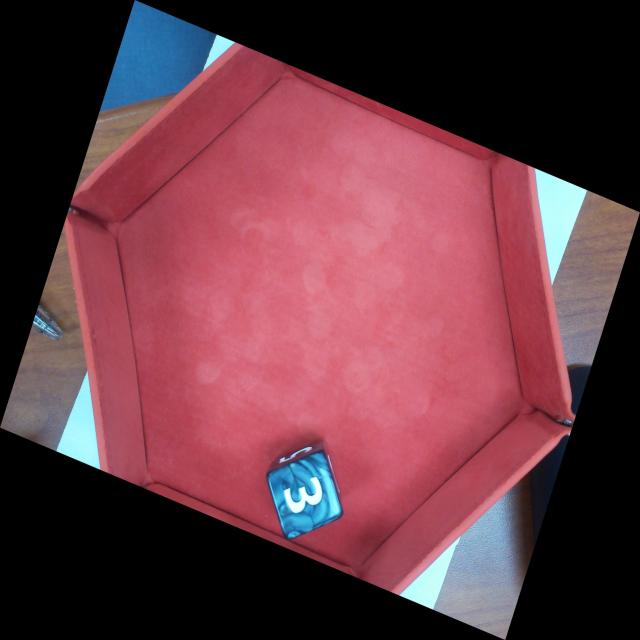dice: (272, 453, 340, 533)
